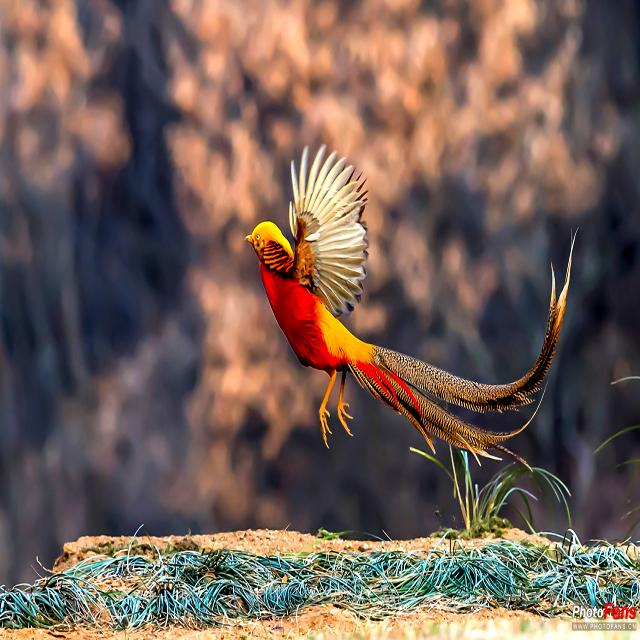Chrysolophus pictus feather: (350, 270, 568, 459)
